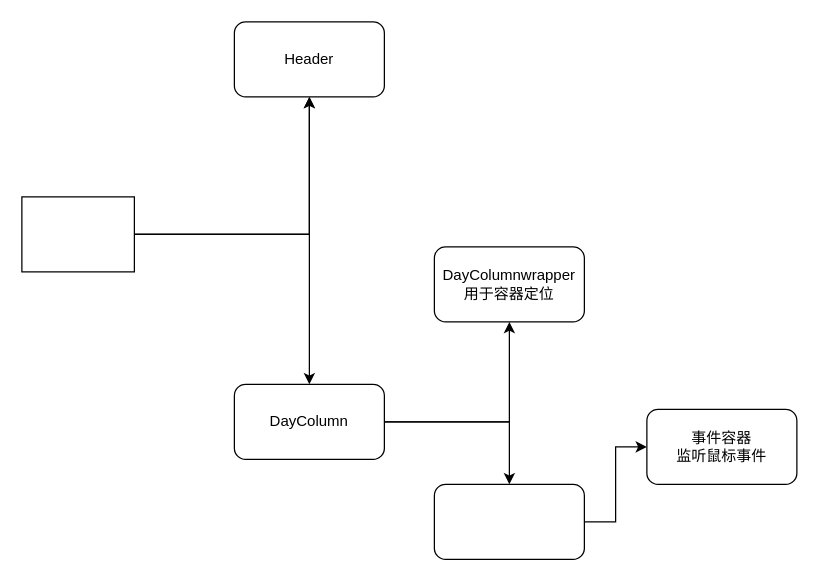
Image size: 819x581. Some labels were removed from this diagram. The box of each missing label's shape, as (x1, y1, x2, y2) in pixels:
事件渲染: (433, 483, 584, 559)
日历: (21, 196, 134, 272)
